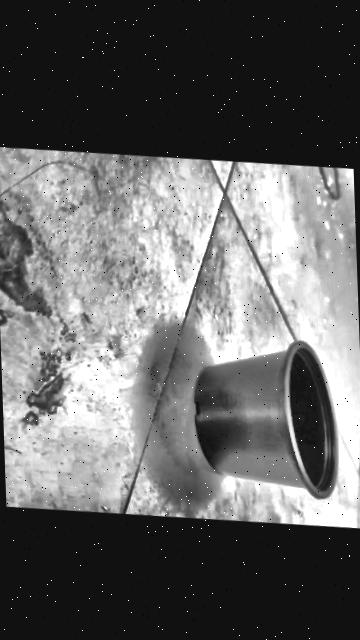pot: (194, 328, 340, 503)
